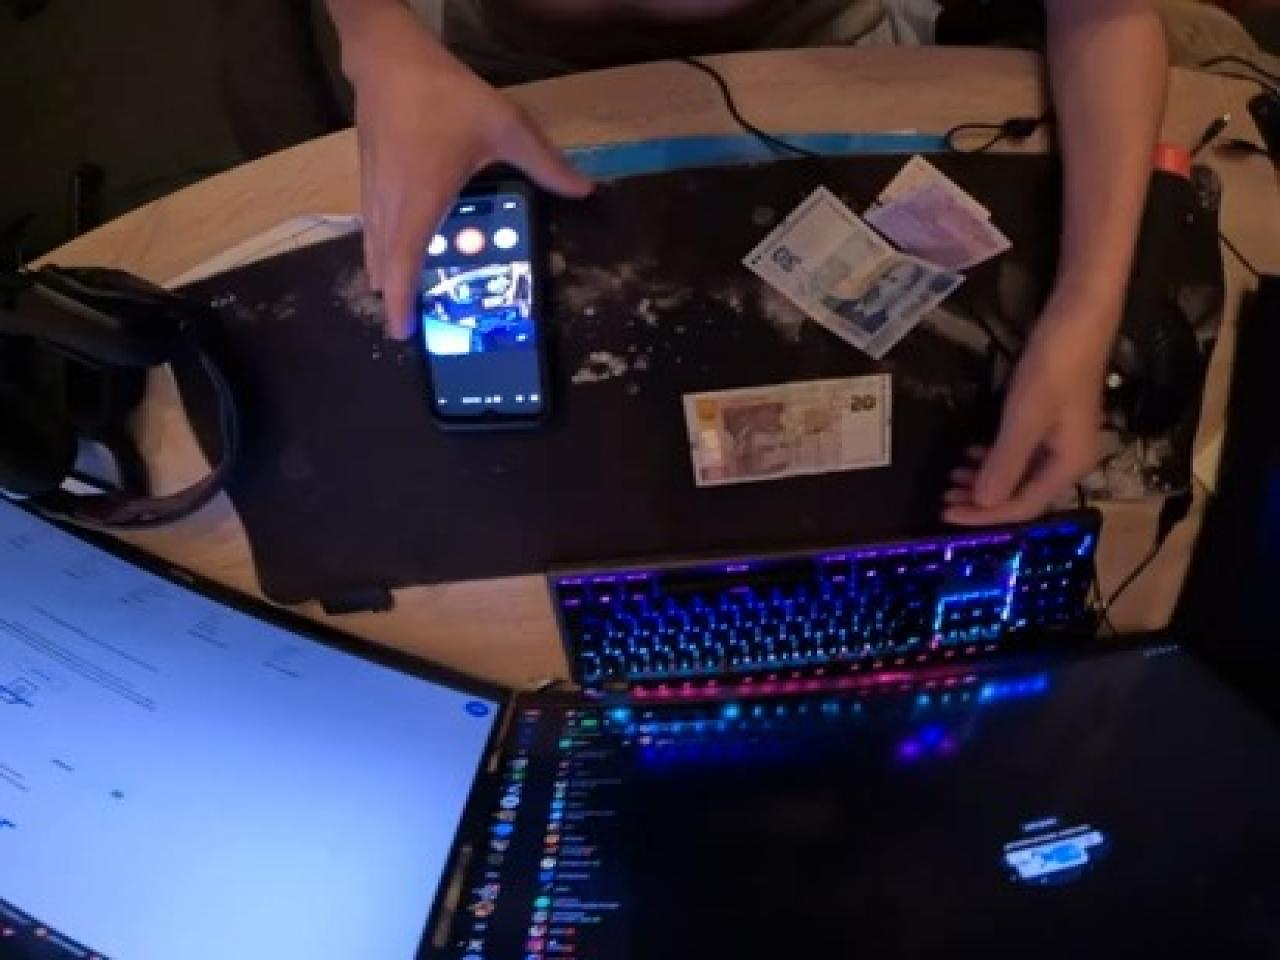20leva: (743, 187, 965, 359)
50leva: (686, 373, 888, 483)
5leva: (863, 156, 1013, 269)
